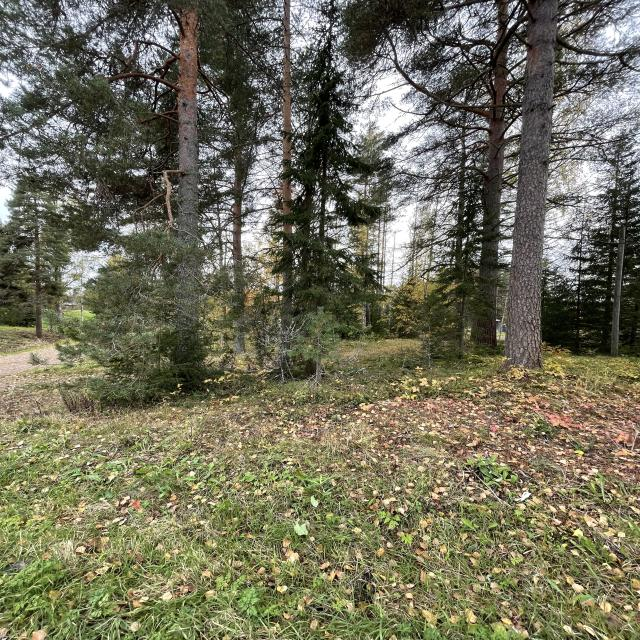spruce: (267, 16, 399, 353)
